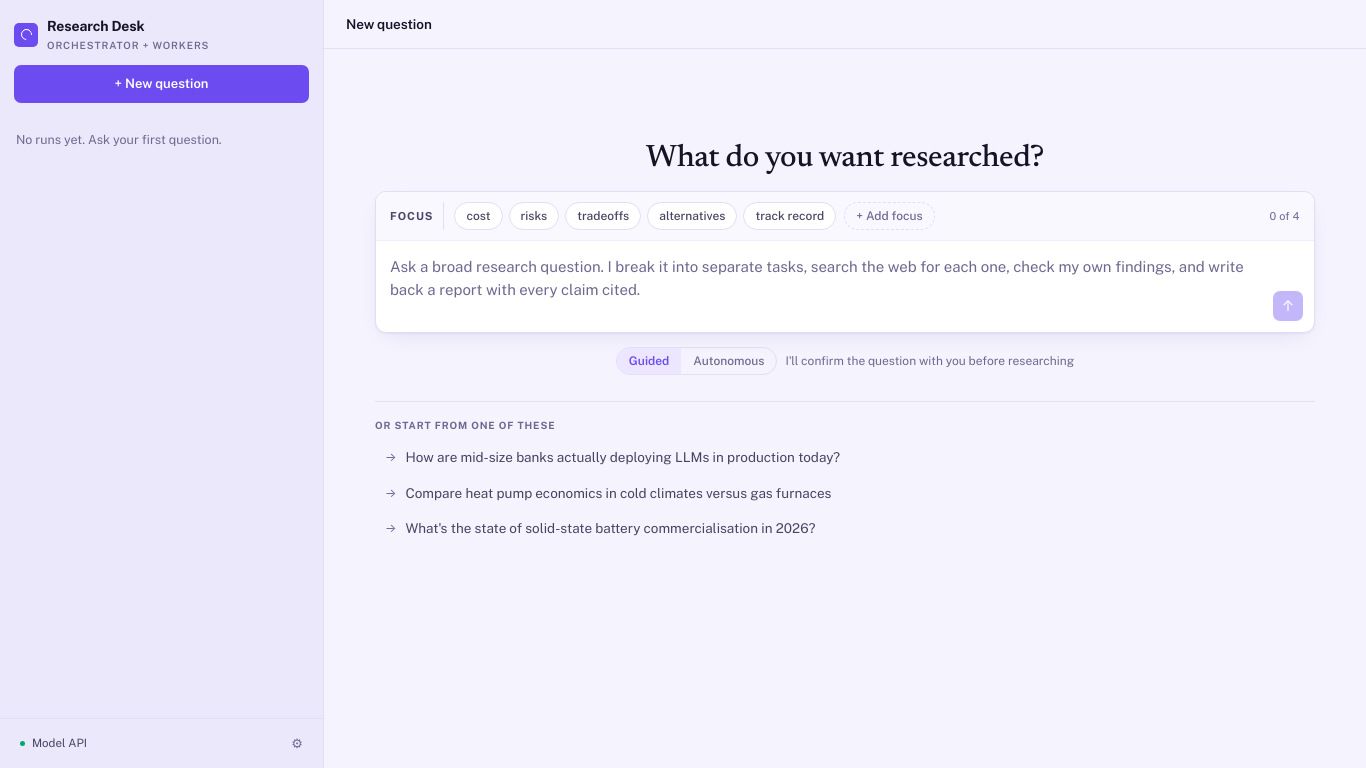
Test: App › opens the run workspace as soon as a question is submitted
Type "Compare battery chemistries" into the text box named "research goal" at x=826, y=285, box [390,249,1263,321]
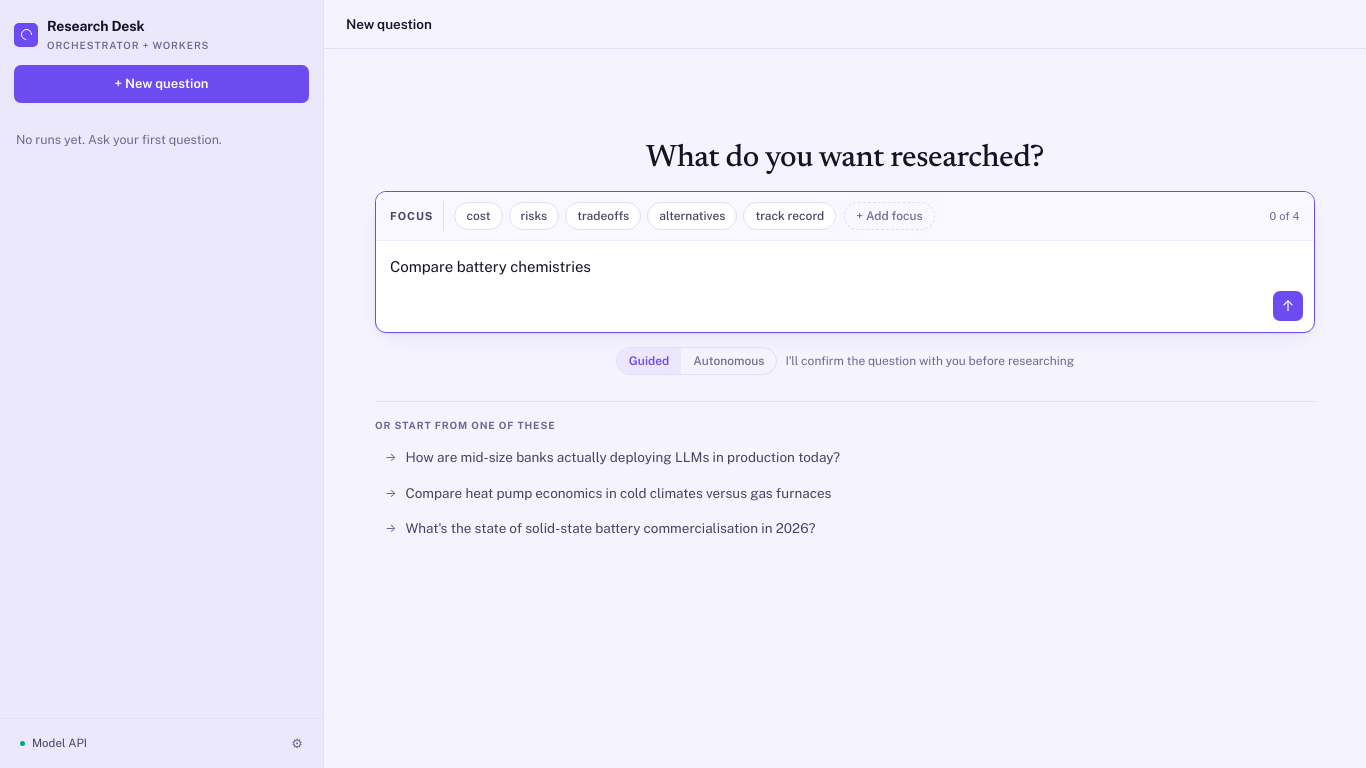
Click the button named "send" at x=1288, y=306, box [1273,291,1303,321]
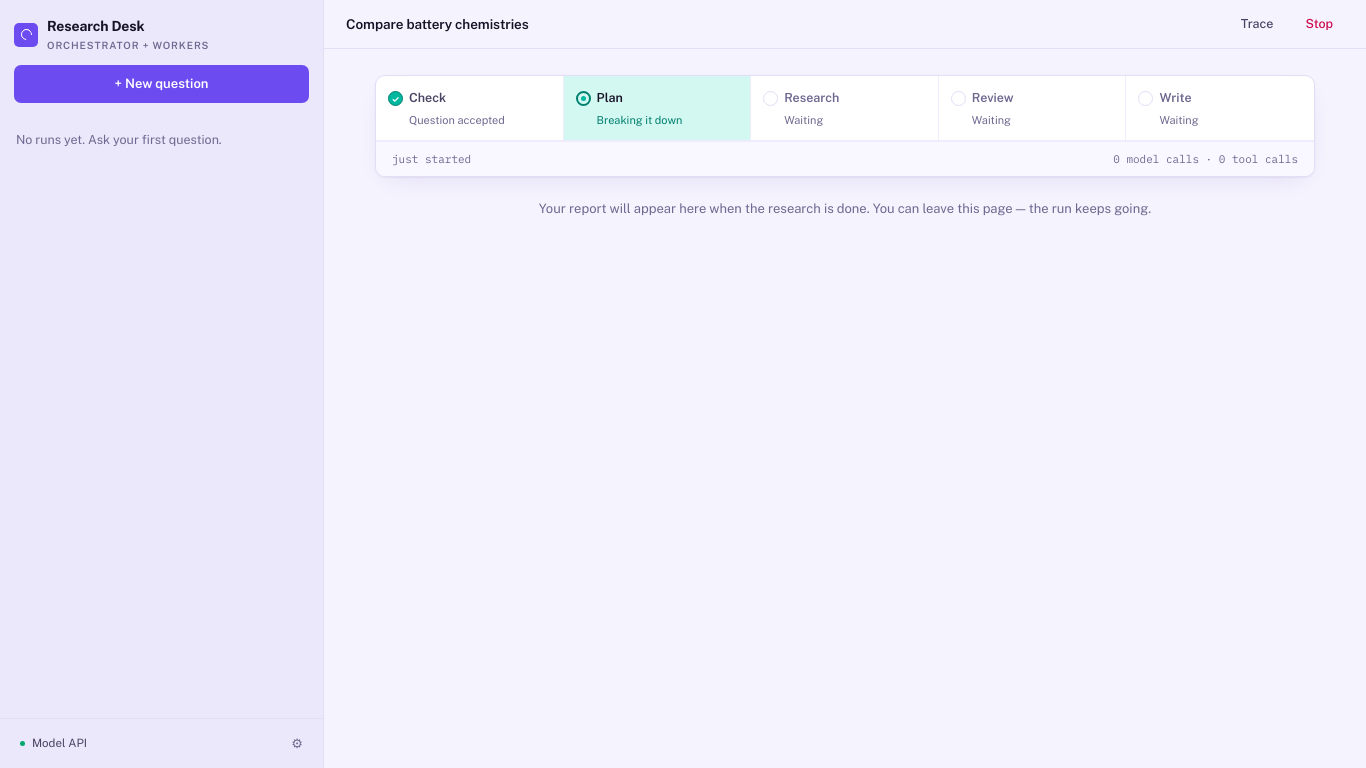
expect the button "Trace" is shown: met, box [1230,9,1284,39]
expect the heading "What do you want researched" is gone: met
expect the button "Stop" is shown: met, box [1294,9,1344,39]
